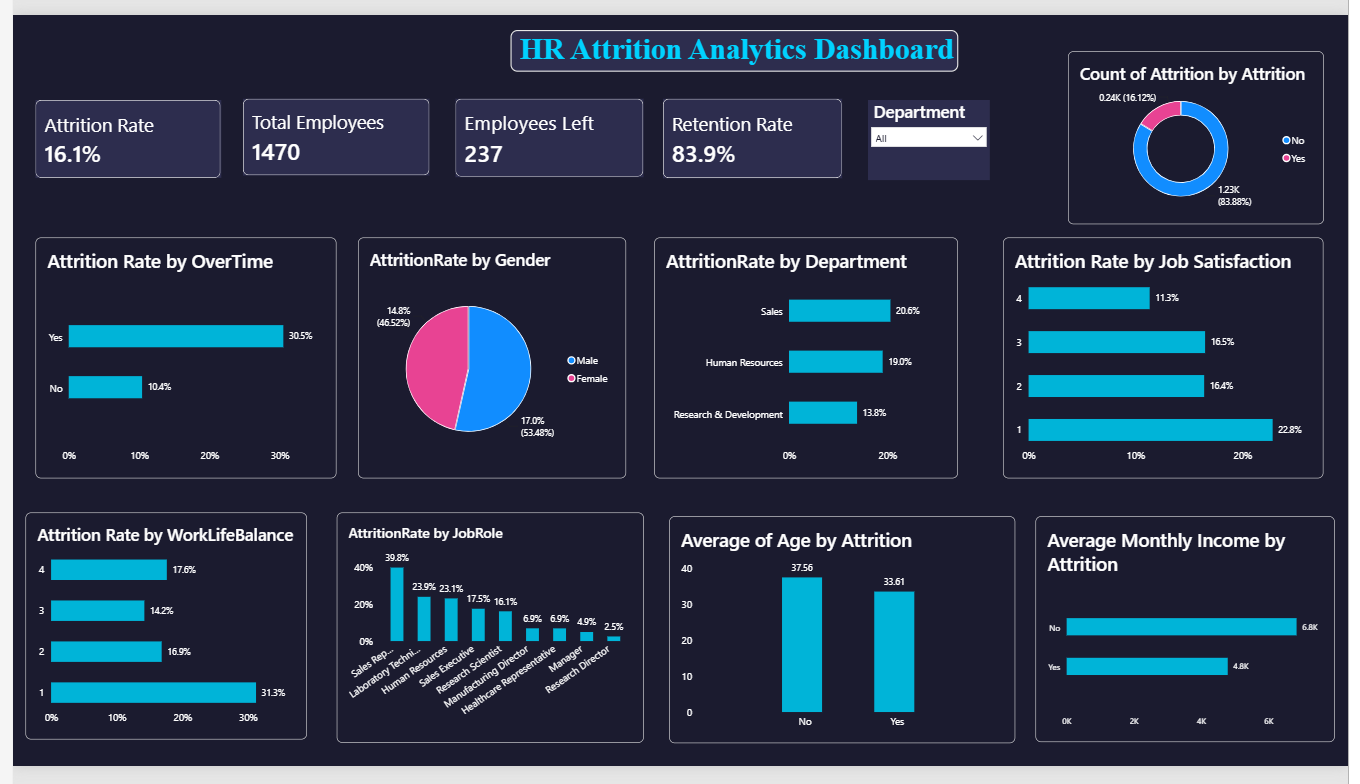

Layout of this report page (visuals, bound fields, positions):
{"tool":"powerbi","page":{"name":"Page 1","canvas":[1920,1080],"ordinal":0},"visuals":[{"type":"clusteredBarChart","fields":{"Category":["hr_attrition_dashboard.Department"],"Y":["hr_attrition_dashboard.Attrition Rate"]},"box":[921.9,320.3,437.2,346.3],"z":0},{"type":"clusteredBarChart","title":"Attrition Rate by OverTime","fields":{"Category":["hr_attrition_dashboard.OverTime"],"Y":["hr_attrition_dashboard.Attrition Rate"]},"box":[32.5,320.3,432.8,346.3],"z":1000},{"type":"clusteredBarChart","title":"Attrition Rate by WorkLifeBalance","fields":{"Category":["hr_attrition_dashboard.WorkLifeBalance"],"Y":["hr_attrition_dashboard.Attrition Rate"]},"box":[17.3,716.3,404.7,326.8],"z":2000},{"type":"clusteredBarChart","title":"Attrition Rate by Job Satisfaction","fields":{"Category":["hr_attrition_dashboard.JobSatisfaction"],"Y":["hr_attrition_dashboard.Attrition Rate"]},"box":[1424,320.3,461,346.3],"z":3000},{"type":"clusteredBarChart","title":"Average Monthly Income by Attrition","fields":{"Category":["hr_attrition_dashboard.Attrition"],"Y":["Avg(hr_attrition_dashboard.MonthlyIncome)"]},"box":[1470,720.7,430.7,324.6],"z":4000},{"type":"clusteredColumnChart","fields":{"Category":["hr_attrition_dashboard.Attrition"],"Y":["Avg(hr_attrition_dashboard.Age)"]},"box":[943.6,720.7,497.8,326.8],"z":5000},{"type":"slicer","title":"Department","fields":{"Values":["hr_attrition_dashboard.Department"]},"box":[1228.9,121.9,175.3,115.2],"z":6000},{"type":"cardVisual","fields":{"Data":["hr_attrition_dashboard.Attrition Rate Display"]},"box":[33.1,121.5,266.9,112.3],"z":7000},{"type":"cardVisual","fields":{"Data":["hr_attrition_dashboard.Total Employees"]},"box":[331.1,121.2,268.4,110.4],"z":8000},{"type":"cardVisual","fields":{"Data":["hr_attrition_dashboard.Employees Left"]},"box":[636.3,121.2,270.5,112.5],"z":9000},{"type":"cardVisual","fields":{"Data":["hr_attrition_dashboard.Retention Rate"]},"box":[934.9,121.2,257.5,114.7],"z":10000},{"type":"textbox","box":[714.8,22.4,643.9,59.7],"z":11000},{"type":"donutChart","fields":{"Category":["hr_attrition_dashboard.Attrition"],"Y":["CountNonNull(hr_attrition_dashboard.Attrition)"]},"box":[1517.1,51.9,367.9,248.9],"z":12000},{"type":"pieChart","fields":{"Category":["hr_attrition_dashboard.Gender"],"Y":["hr_attrition_dashboard.Attrition Rate"]},"box":[495.6,320.3,385.2,346.3],"z":13000},{"type":"clusteredColumnChart","fields":{"Category":["hr_attrition_dashboard.JobRole"],"Y":["hr_attrition_dashboard.Attrition Rate"]},"box":[465.3,716.3,441.5,331.1],"z":14000},{"type":"textbox","box":[100,100,300,300],"z":14001}]}

Visuals, with their boxes in screenshot pixels (x1, y1, x2, y2), scaled from the page's 1920x1080 canvas onto the 1360x784 screenshot:
clusteredBarChart - hr_attrition_dashboard.Department x hr_attrition_dashboard.Attrition Rate: {"x1": 653, "y1": 233, "x2": 963, "y2": 484}
"Attrition Rate by OverTime" clusteredBarChart: {"x1": 23, "y1": 233, "x2": 330, "y2": 484}
"Attrition Rate by WorkLifeBalance" clusteredBarChart: {"x1": 12, "y1": 520, "x2": 299, "y2": 757}
"Attrition Rate by Job Satisfaction" clusteredBarChart: {"x1": 1009, "y1": 233, "x2": 1335, "y2": 484}
"Average Monthly Income by Attrition" clusteredBarChart: {"x1": 1041, "y1": 523, "x2": 1346, "y2": 759}
clusteredColumnChart - hr_attrition_dashboard.Attrition x Avg(hr_attrition_dashboard.Age): {"x1": 668, "y1": 523, "x2": 1021, "y2": 760}
"Department" slicer: {"x1": 870, "y1": 88, "x2": 995, "y2": 172}
cardVisual - hr_attrition_dashboard.Attrition Rate Display: {"x1": 23, "y1": 88, "x2": 212, "y2": 170}
cardVisual - hr_attrition_dashboard.Total Employees: {"x1": 235, "y1": 88, "x2": 425, "y2": 168}
cardVisual - hr_attrition_dashboard.Employees Left: {"x1": 451, "y1": 88, "x2": 642, "y2": 170}
cardVisual - hr_attrition_dashboard.Retention Rate: {"x1": 662, "y1": 88, "x2": 845, "y2": 171}
textbox: {"x1": 506, "y1": 16, "x2": 962, "y2": 60}
donutChart - hr_attrition_dashboard.Attrition x CountNonNull(hr_attrition_dashboard.Attrition): {"x1": 1075, "y1": 38, "x2": 1335, "y2": 218}
pieChart - hr_attrition_dashboard.Gender x hr_attrition_dashboard.Attrition Rate: {"x1": 351, "y1": 233, "x2": 624, "y2": 484}
clusteredColumnChart - hr_attrition_dashboard.JobRole x hr_attrition_dashboard.Attrition Rate: {"x1": 330, "y1": 520, "x2": 642, "y2": 760}
textbox: {"x1": 71, "y1": 73, "x2": 283, "y2": 290}
